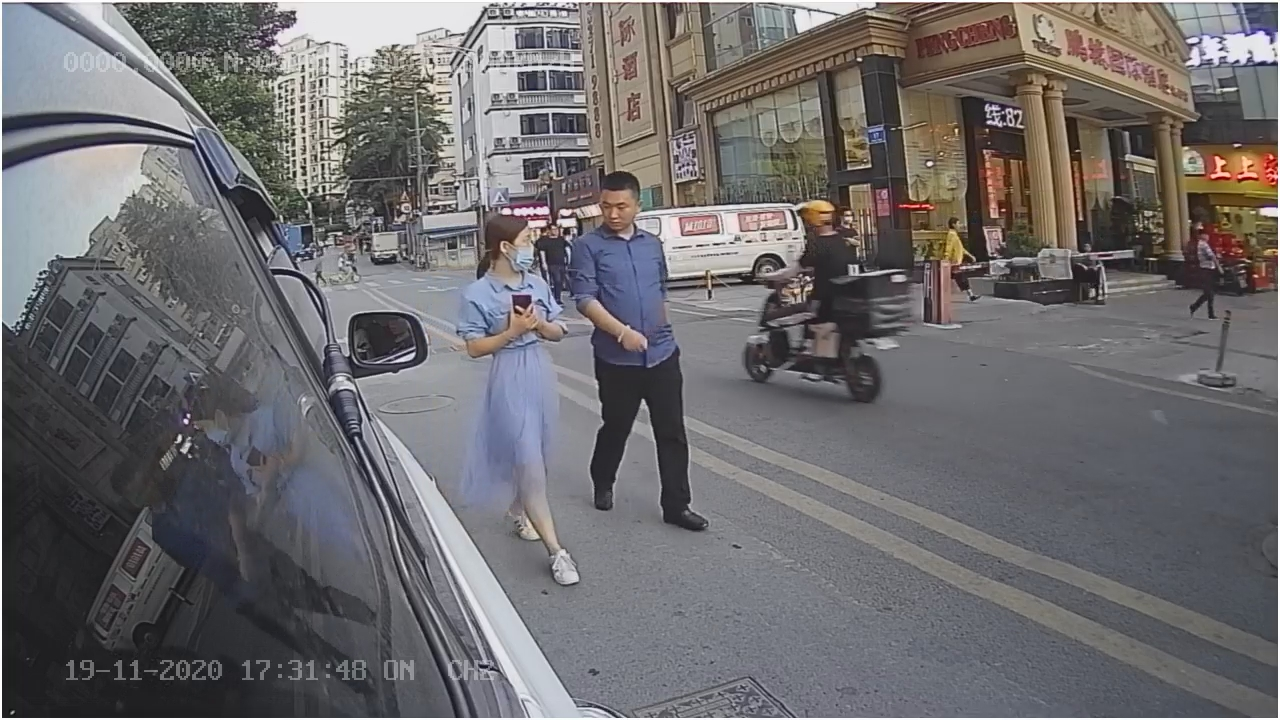person: (571, 177, 703, 497), (453, 210, 566, 466)
